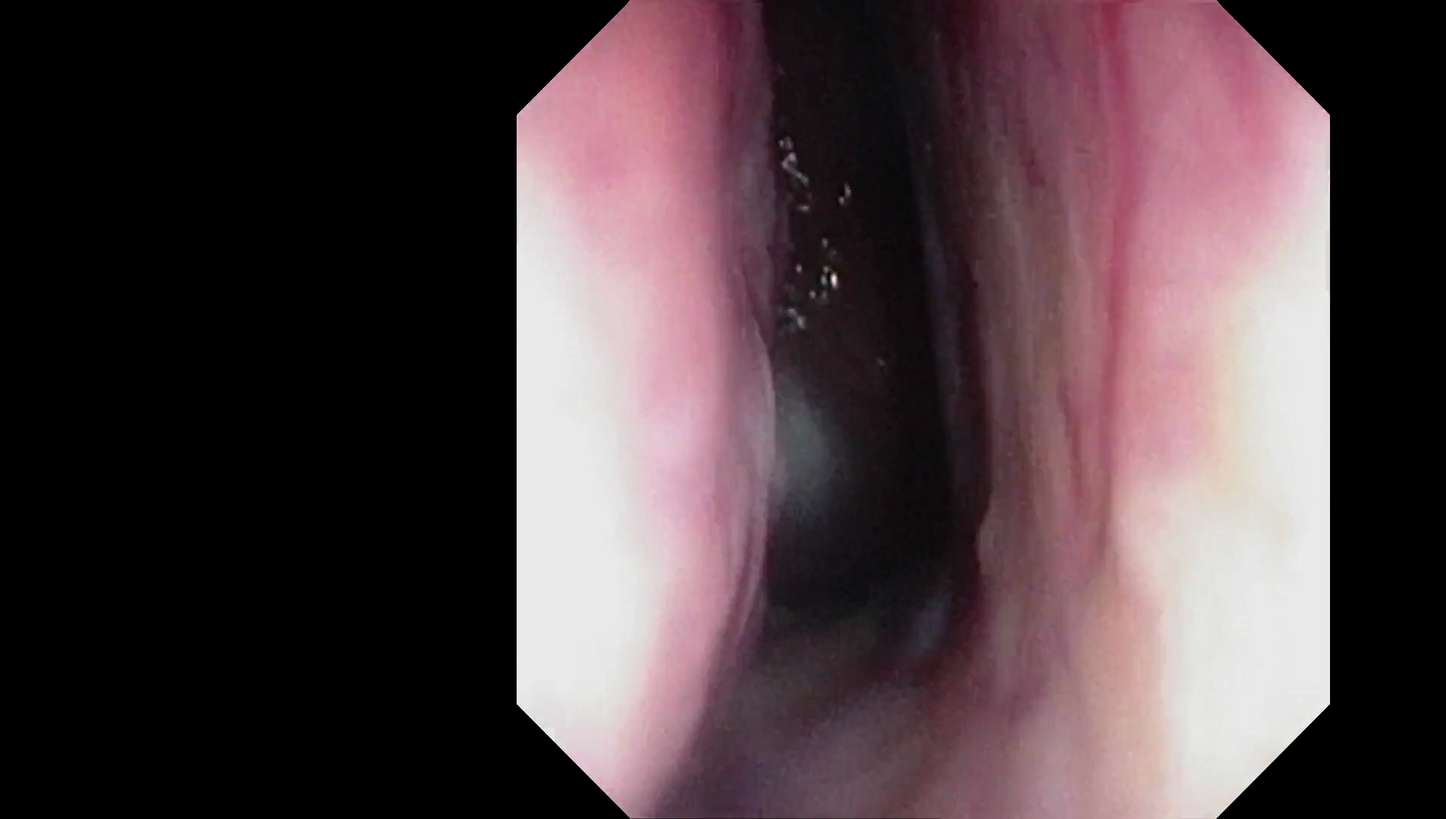close_wall: (1077, 130, 1318, 708), (529, 148, 758, 693)
next: (702, 211, 1001, 687)
